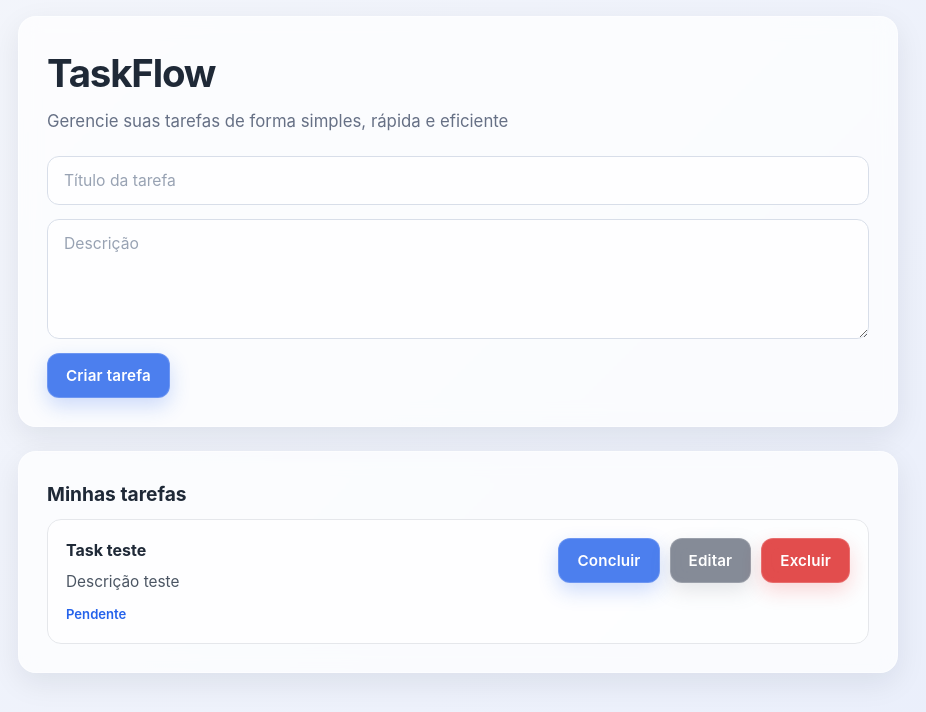
Test: App › entra em modo edição ao clicar em editar
Click the button "Editar" at (710, 560), box [670,538,751,583]
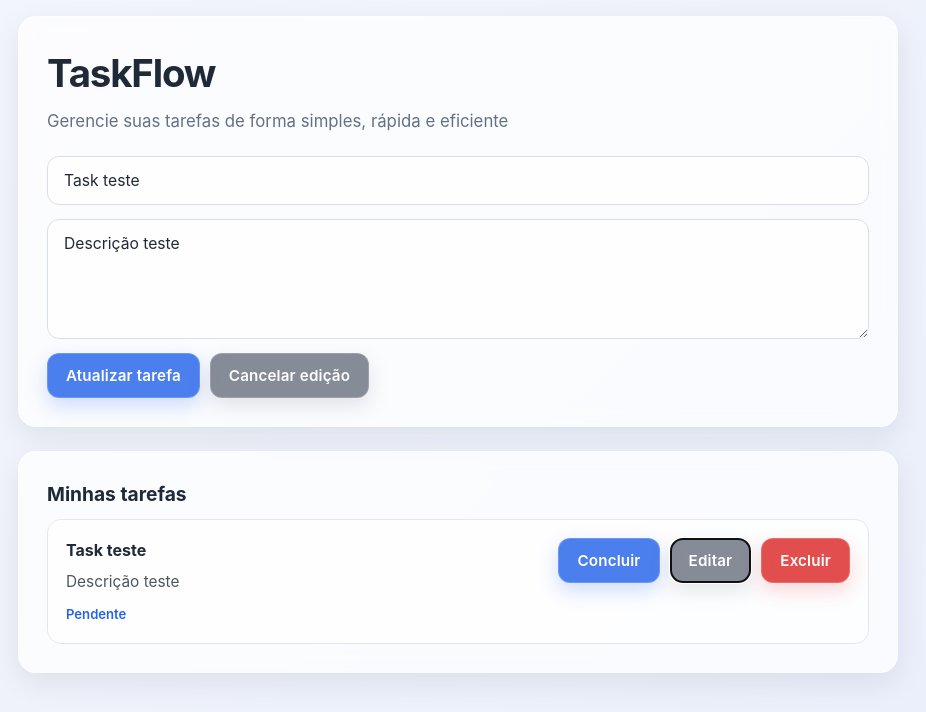
Expected: the field showing "Task teste" is shown, [47,156,869,205]
Expected: the text box showing "Descrição teste" is shown, [47,219,869,339]
Expected: the button "Atualizar tarefa" is shown, [47,353,200,398]
